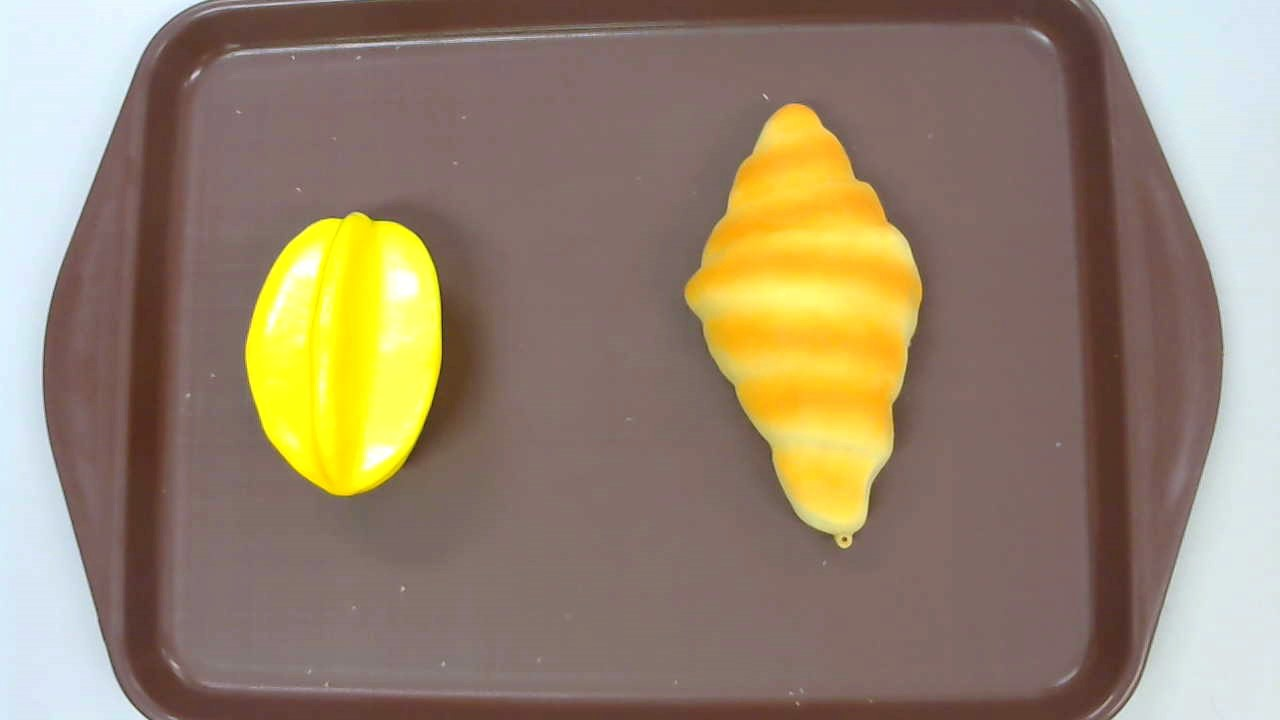croissant: (682, 102, 922, 549)
star fruit: (244, 211, 442, 498)
